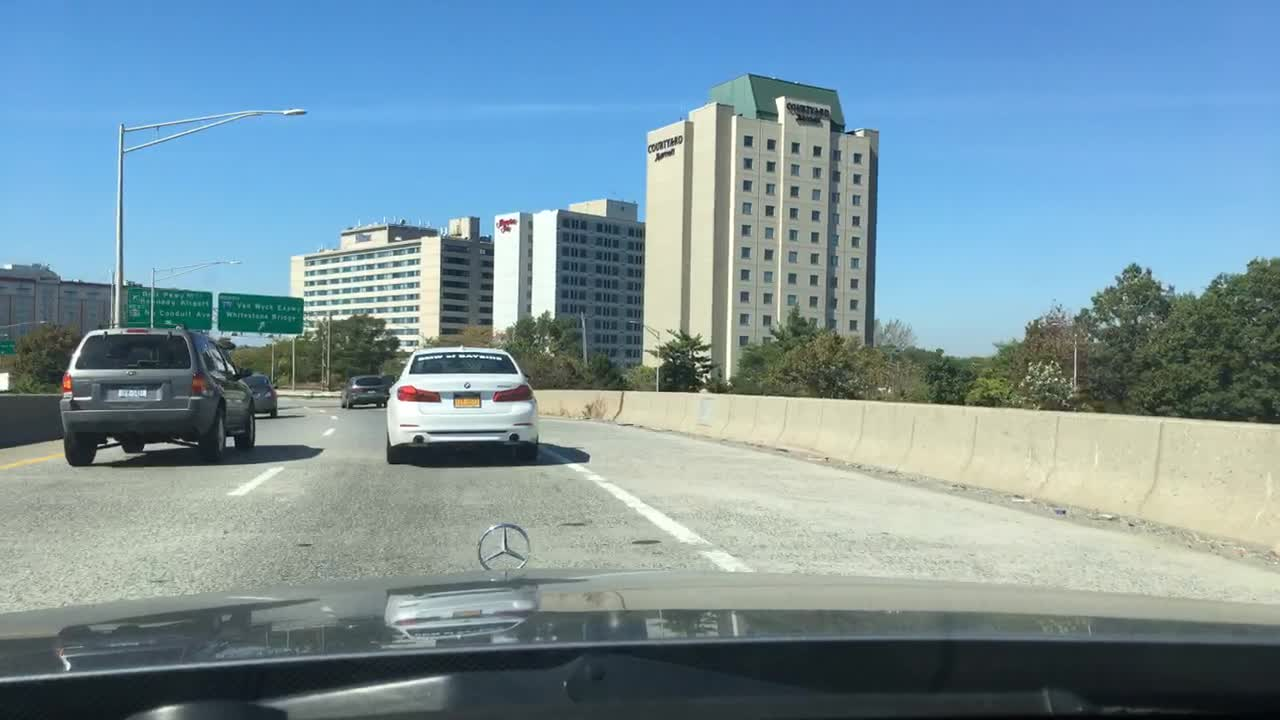car: (53, 323, 258, 465), (380, 343, 544, 465), (337, 372, 390, 409), (243, 371, 280, 420)
traffic sign: (215, 292, 306, 335), (127, 287, 212, 330), (0, 336, 19, 355)
